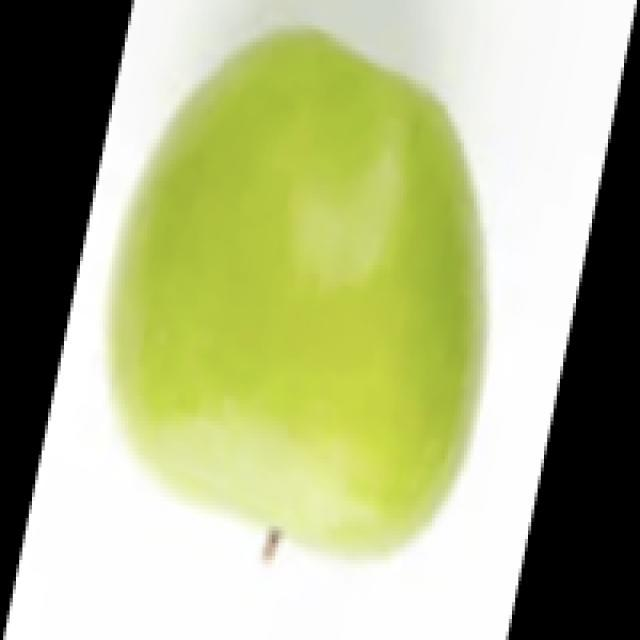Fresh Apple: (118, 45, 470, 558)
